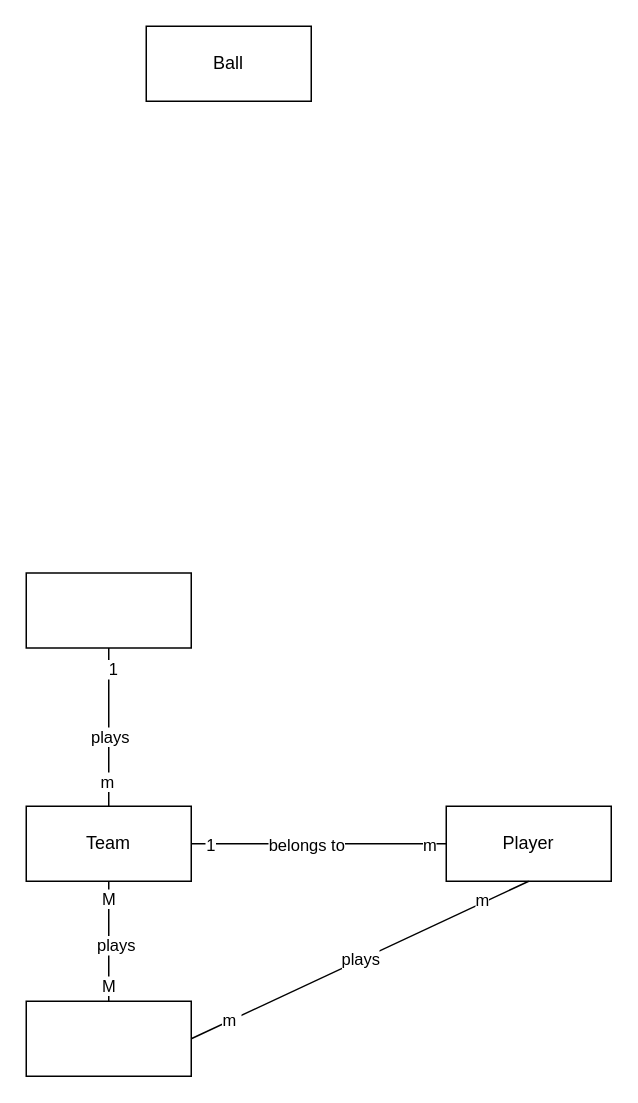
This 638x1103 diagram has some shape labels left out. Here are the shapes that lost their labels. From the top down, the centre of each, then its label:
the point at 108,610: League
the point at 108,1038: Game
